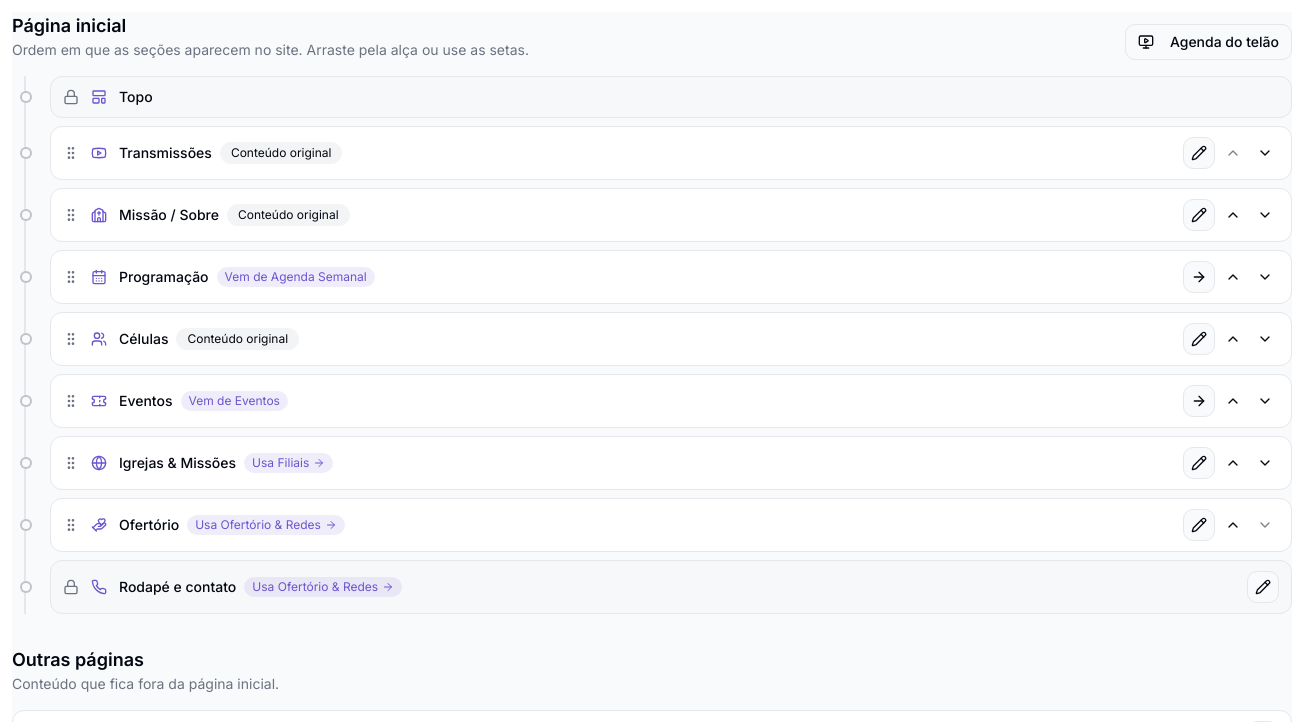
Test: SiteFlowTab › mover com as setas e salvar envia a nova ordem exata
Click the button named "Mover Células para cima" at (1233, 339), box [1219,325,1247,353]
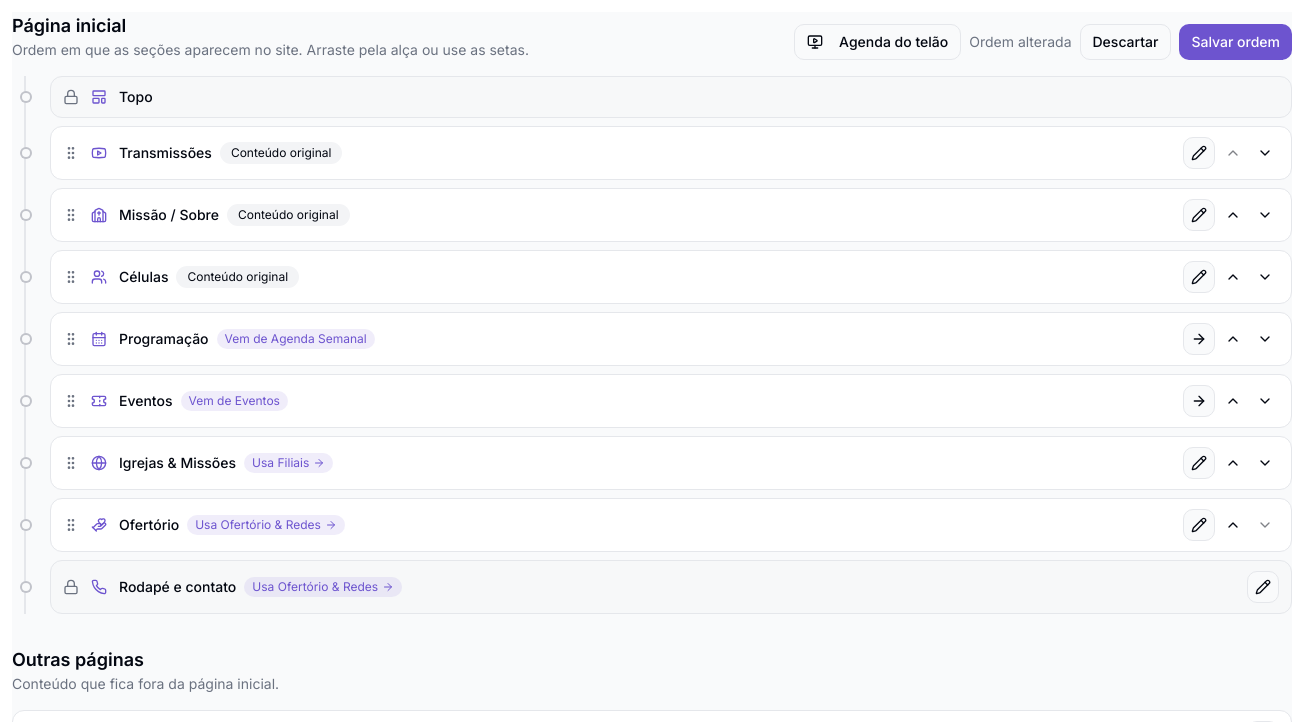
Click the button "Salvar ordem" at (1236, 42), box [1179,24,1292,60]
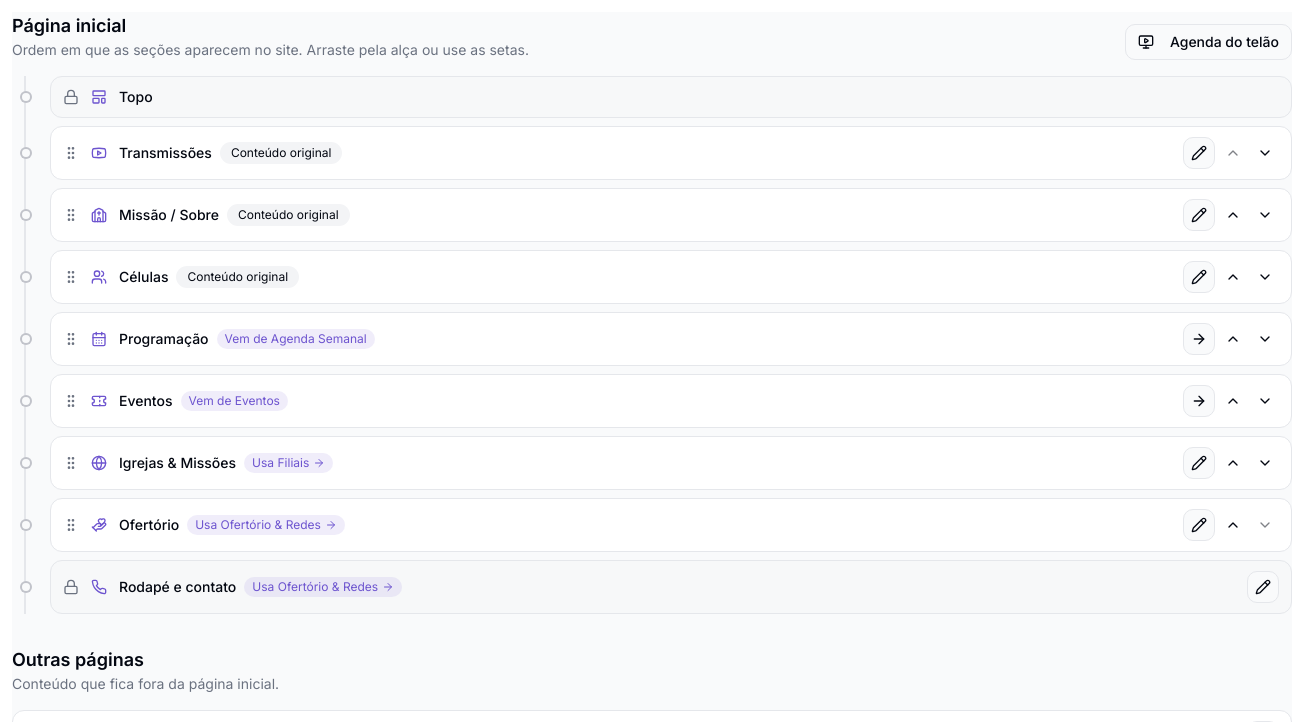
Now the button "Salvar ordem" is gone
